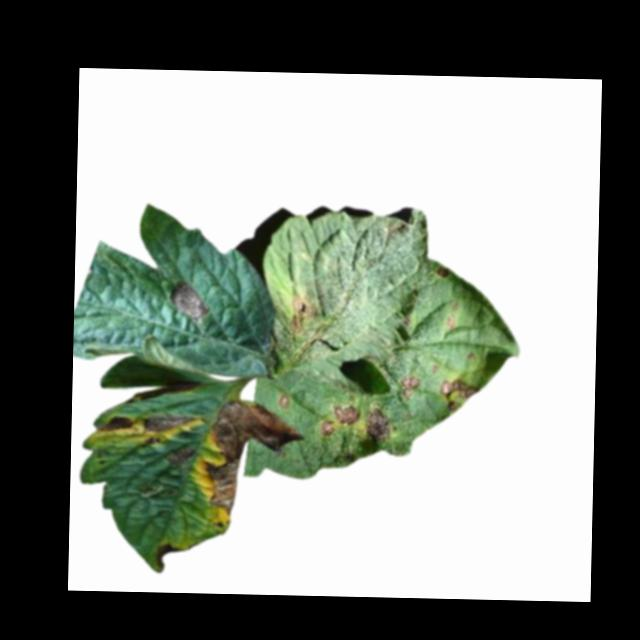Early_blight: (200, 400, 304, 520), (166, 283, 211, 325), (439, 376, 477, 414), (287, 291, 319, 335), (140, 415, 197, 434), (364, 408, 389, 442), (165, 445, 194, 469), (329, 402, 359, 425), (155, 545, 181, 569), (101, 414, 133, 433), (399, 374, 419, 401), (316, 419, 333, 437), (277, 395, 290, 410), (435, 264, 447, 280)
